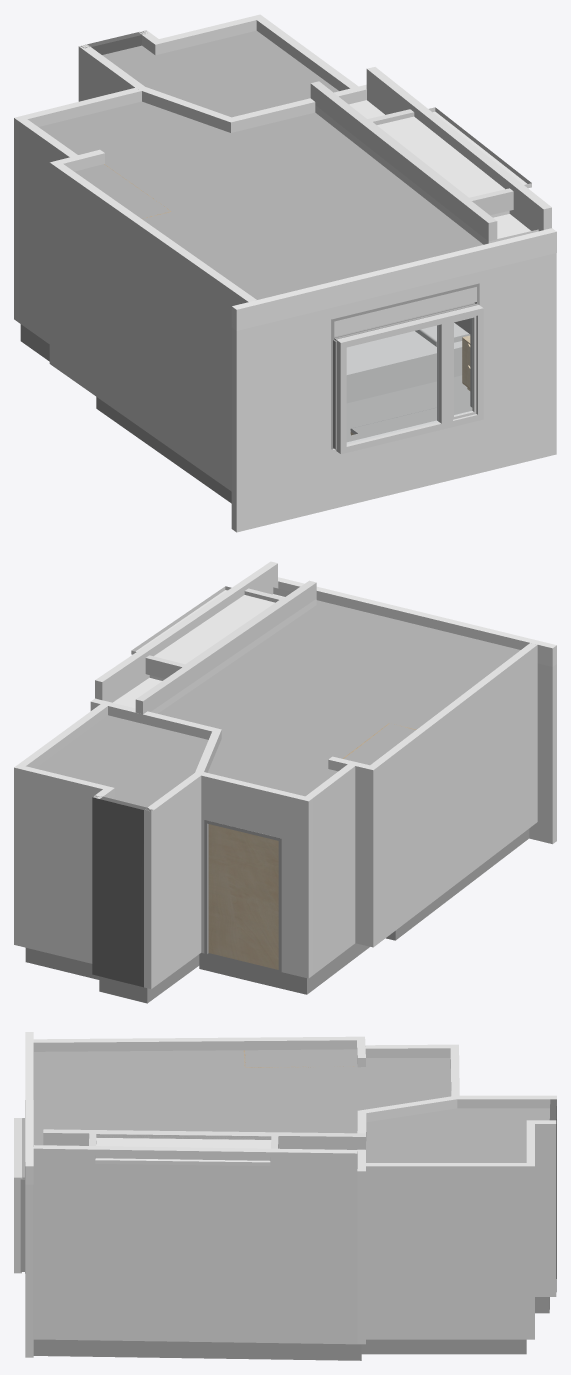
Rendered from patientRoom_test9.fbx.
3 renders of one model, top to bottom at view 1: azimuth 30°, elevation 25°; view 2: azimuth 150°, elevation 25°; view 3: azimuth 270°, elevation 25°, orthographic. The views are drawn at different scales.
Visible parts, largest first — view 1: CEILING, WALL_12, WALL, Walls_2, WINDOW FRAME, WALL_3, LIGHT COVE, BED, FLOOR, LIGHT COVE_2, LIGHT COVE_4, WINDOW FRAME_2 (+9 smaller); view 2: CEILING, WALL, WALL_8, WALL_6, WALL_11, Walls, DOOR, WALL_3, FLOOR, LIGHT COVE, Walls_2, WALL_12 (+8 smaller); view 3: WALL_4, CEILING, WALL_9, FLOOR, LIGHT COVE_4, WALL, LIGHT COVE, WALL_7, LIGHT COVE_2, WALL_5, WALL_8, WALL_12 (+7 smaller).
Part boxes in pixels (x1,y1,x2,y2): CEILING: (39, 30, 483, 299); WALL_12: (231, 253, 556, 532); WALL: (49, 160, 256, 491); Walls_2: (231, 228, 556, 330); WINDOW FRAME: (336, 305, 483, 454); WALL_3: (19, 119, 77, 343); LIGHT COVE: (310, 81, 513, 241); BED: (346, 323, 470, 403); FLOOR: (20, 324, 470, 503); LIGHT COVE_2: (376, 107, 531, 197); LIGHT COVE_4: (366, 67, 551, 229); WINDOW FRAME_2: (331, 283, 479, 449); CEILING: (35, 600, 520, 807); WALL: (366, 643, 537, 947); WALL_8: (14, 764, 106, 963); WALL_6: (144, 770, 204, 989); WALL_11: (201, 772, 312, 978); Walls: (92, 795, 152, 987); DOOR: (208, 824, 278, 969); WALL_3: (305, 764, 355, 974); FLOOR: (25, 829, 529, 1003); LIGHT COVE: (135, 580, 316, 714); Walls_2: (278, 577, 556, 666); WALL_12: (529, 663, 556, 844); WALL_4: (33, 1165, 357, 1344); CEILING: (33, 1049, 549, 1162); WALL_9: (366, 1163, 526, 1339); FLOOR: (33, 1297, 549, 1360); LIGHT COVE_4: (33, 1145, 357, 1171); WALL: (33, 1036, 365, 1099); LIGHT COVE: (43, 1129, 365, 1149); WALL_7: (526, 1120, 556, 1296); LIGHT COVE_2: (95, 1134, 271, 1165); WALL_5: (357, 1110, 366, 1344); WALL_8: (526, 1124, 534, 1339); WALL_12: (25, 1184, 33, 1357).
Size of the model in its own units: 5.13 by 8.23 by 3.5.
41 materials, 7 textured.
